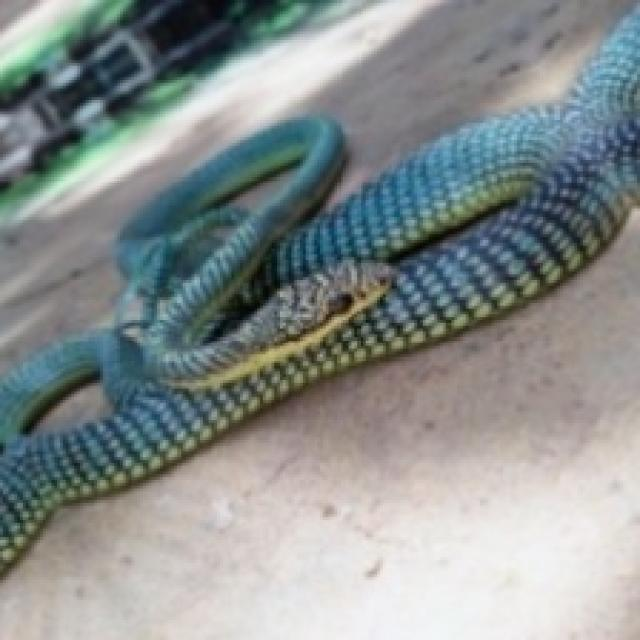paradise tree snake: (0, 211, 637, 637), (0, 106, 271, 369), (300, 0, 631, 203)
